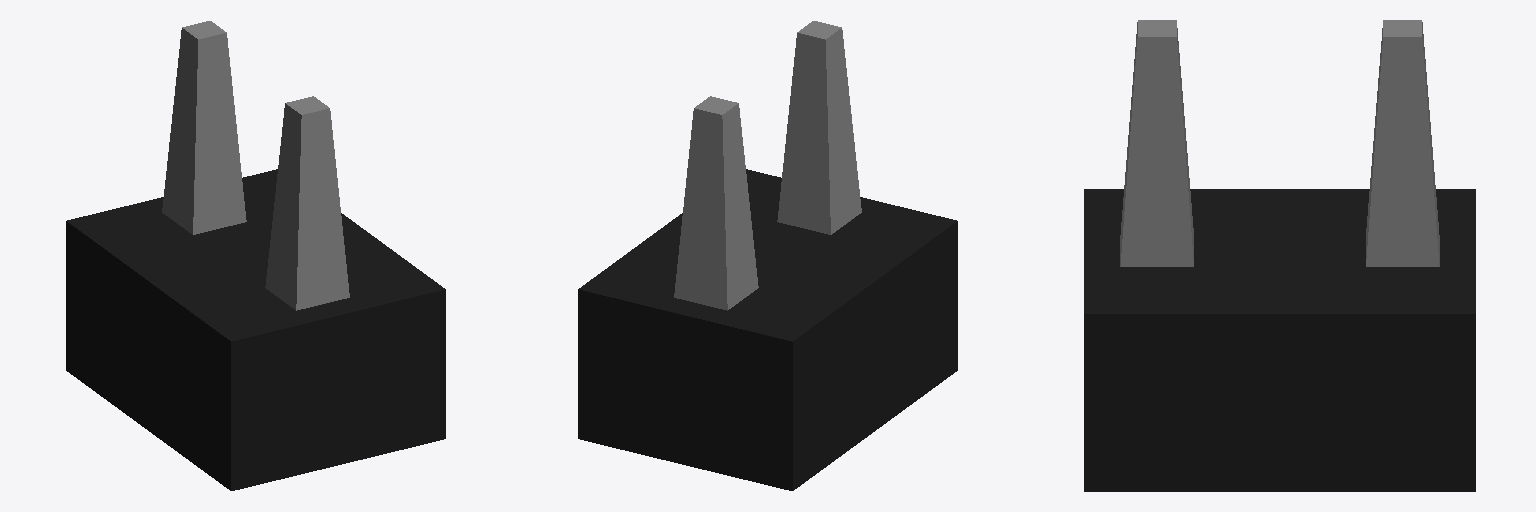
URDF robot description (gripper):
<?xml version="1.0"?>
<!--
  urdf/arm/gripper.urdf
  Standalone parallel-jaw gripper sub-assembly.
  Attaches to the wrist (end_effector_link) of kuka_arm.urdf.
  Used as a reference; the gripper links are also inlined in kuka_arm.urdf
  so PyBullet loads a single combined URDF.

  Structure:
    gripper_base
      ├── finger_left  (prismatic +Y, 0→0.04 m open)
      └── finger_right (prismatic -Y, 0→0.04 m open)

  Force sensor modelled at gripper_base (read via p.getContactPoints).
-->
<robot name="gripper">

  <!-- Palm / base block -->
  <link name="gripper_base">
    <inertial>
      <mass value="0.15"/>
      <origin xyz="0 0 0.02" rpy="0 0 0"/>
      <inertia ixx="0.0003" ixy="0" ixz="0"
               iyy="0.0003" iyz="0"
               izz="0.0003"/>
    </inertial>
    <visual>
      <origin xyz="0 0 0.02" rpy="0 0 0"/>
      <geometry>
        <box size="0.06 0.08 0.04"/>
      </geometry>
      <material name="gripper_dark">
        <color rgba="0.15 0.15 0.15 1.0"/>
      </material>
    </visual>
    <collision>
      <origin xyz="0 0 0.02" rpy="0 0 0"/>
      <geometry>
        <box size="0.06 0.08 0.04"/>
      </geometry>
    </collision>
  </link>

  <!-- Left finger -->
  <link name="finger_left">
    <inertial>
      <mass value="0.05"/>
      <origin xyz="0 0 0.025" rpy="0 0 0"/>
      <inertia ixx="0.00005" ixy="0" ixz="0"
               iyy="0.00005" iyz="0"
               izz="0.00001"/>
    </inertial>
    <visual>
      <origin xyz="0 0 0" rpy="0 0 0"/>
      <geometry>
        <mesh filename="../../assets/meshes/gripper_finger.obj" scale="1 1 1"/>
      </geometry>
      <material name="finger_gray">
        <color rgba="0.55 0.55 0.55 1.0"/>
      </material>
    </visual>
    <collision>
      <origin xyz="0 0 0.025" rpy="0 0 0"/>
      <geometry>
        <box size="0.015 0.015 0.05"/>
      </geometry>
    </collision>
  </link>

  <joint name="finger_left_joint" type="prismatic">
    <parent link="gripper_base"/>
    <child  link="finger_left"/>
    <origin xyz="0  0.025 0.04" rpy="0 0 0"/>
    <axis xyz="0 1 0"/>
    <limit lower="0.0" upper="0.04" effort="20" velocity="0.1"/>
    <dynamics damping="0.1" friction="0.01"/>
  </joint>

  <!-- Right finger (mirror of left) -->
  <link name="finger_right">
    <inertial>
      <mass value="0.05"/>
      <origin xyz="0 0 0.025" rpy="0 0 0"/>
      <inertia ixx="0.00005" ixy="0" ixz="0"
               iyy="0.00005" iyz="0"
               izz="0.00001"/>
    </inertial>
    <visual>
      <origin xyz="0 0 0" rpy="0 0 3.14159"/>
      <geometry>
        <mesh filename="../../assets/meshes/gripper_finger.obj" scale="1 1 1"/>
      </geometry>
      <material name="finger_gray">
        <color rgba="0.55 0.55 0.55 1.0"/>
      </material>
    </visual>
    <collision>
      <origin xyz="0 0 0.025" rpy="0 0 0"/>
      <geometry>
        <box size="0.015 0.015 0.05"/>
      </geometry>
    </collision>
  </link>

  <joint name="finger_right_joint" type="prismatic">
    <parent link="gripper_base"/>
    <child  link="finger_right"/>
    <origin xyz="0 -0.025 0.04" rpy="0 0 0"/>
    <axis xyz="0 -1 0"/>
    <limit lower="0.0" upper="0.04" effort="20" velocity="0.1"/>
    <dynamics damping="0.1" friction="0.01"/>
  </joint>

</robot>

--- What the picture shows (computed from the rendered views, not written in the file) ---
The picture shows the robot from 3 angles, left to right: view 1: azimuth 30°, elevation 25°; view 2: azimuth 150°, elevation 25°; view 3: azimuth 270°, elevation 25°; orthographic projection.
Model gripper with 3 links and 2 joints (2 prismatic), rooted at gripper_base, posed all joints at 0.
Visible links, largest first — view 1: gripper_base, finger_left, finger_right; view 2: gripper_base, finger_right, finger_left; view 3: gripper_base, finger_left, finger_right.
Boxes of the visible links, x1,y1,x2,y2 form: gripper_base: (66, 169, 445, 490); finger_left: (162, 21, 246, 234); finger_right: (265, 96, 349, 310); gripper_base: (578, 169, 957, 490); finger_right: (777, 21, 861, 234); finger_left: (674, 96, 758, 310); gripper_base: (1084, 189, 1475, 491); finger_left: (1366, 20, 1439, 266); finger_right: (1120, 20, 1193, 266).
Bounding box of the posed robot: 0.06 × 0.08 × 0.09 m (x, y, z).
2 mesh visuals loaded from 1 distinct referenced files (1 OBJ).
